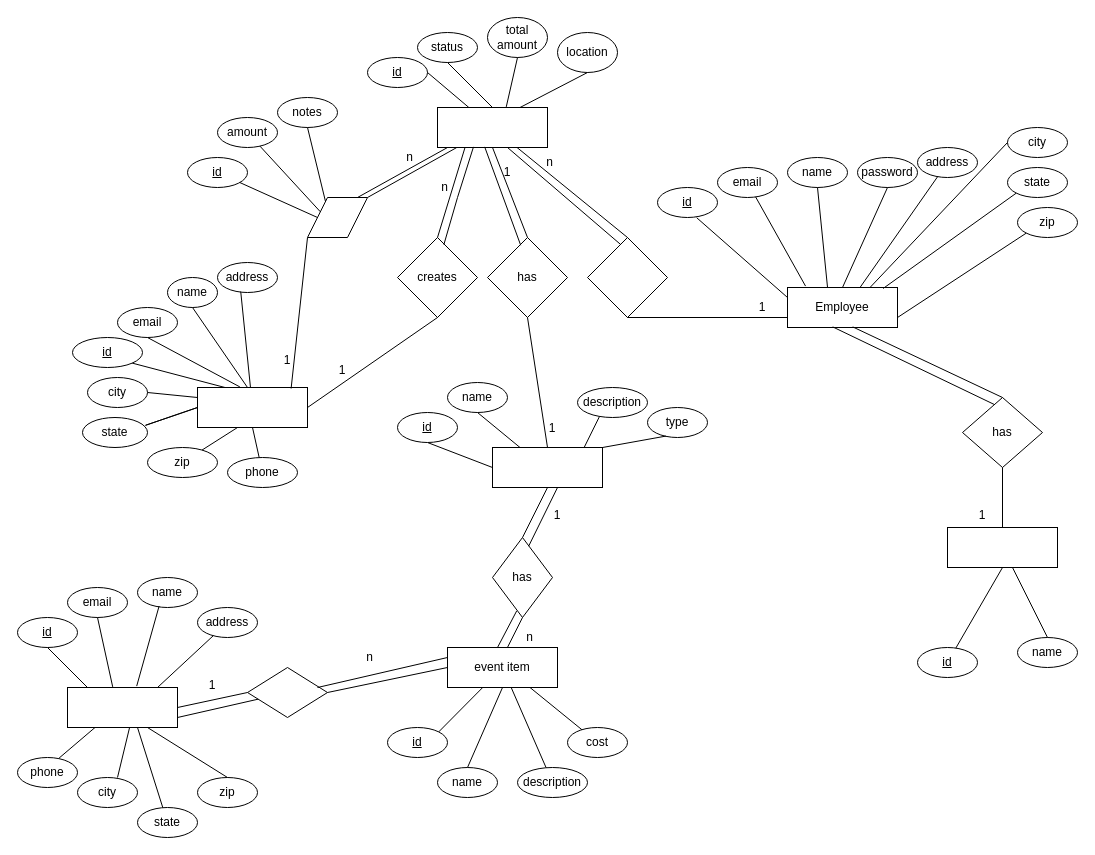
Image size: 1095x855. Some labels were removed from this diagram. Here are the shapes that lost their labels. From the top down, the box of each, then its label:
(436, 106, 548, 148): order
(306, 196, 368, 238): pay
(586, 236, 668, 318): manage
(196, 386, 308, 428): client
(492, 446, 602, 488): event
(946, 526, 1058, 568): Role
(66, 686, 178, 728): supplier
(246, 666, 328, 718): supplies
